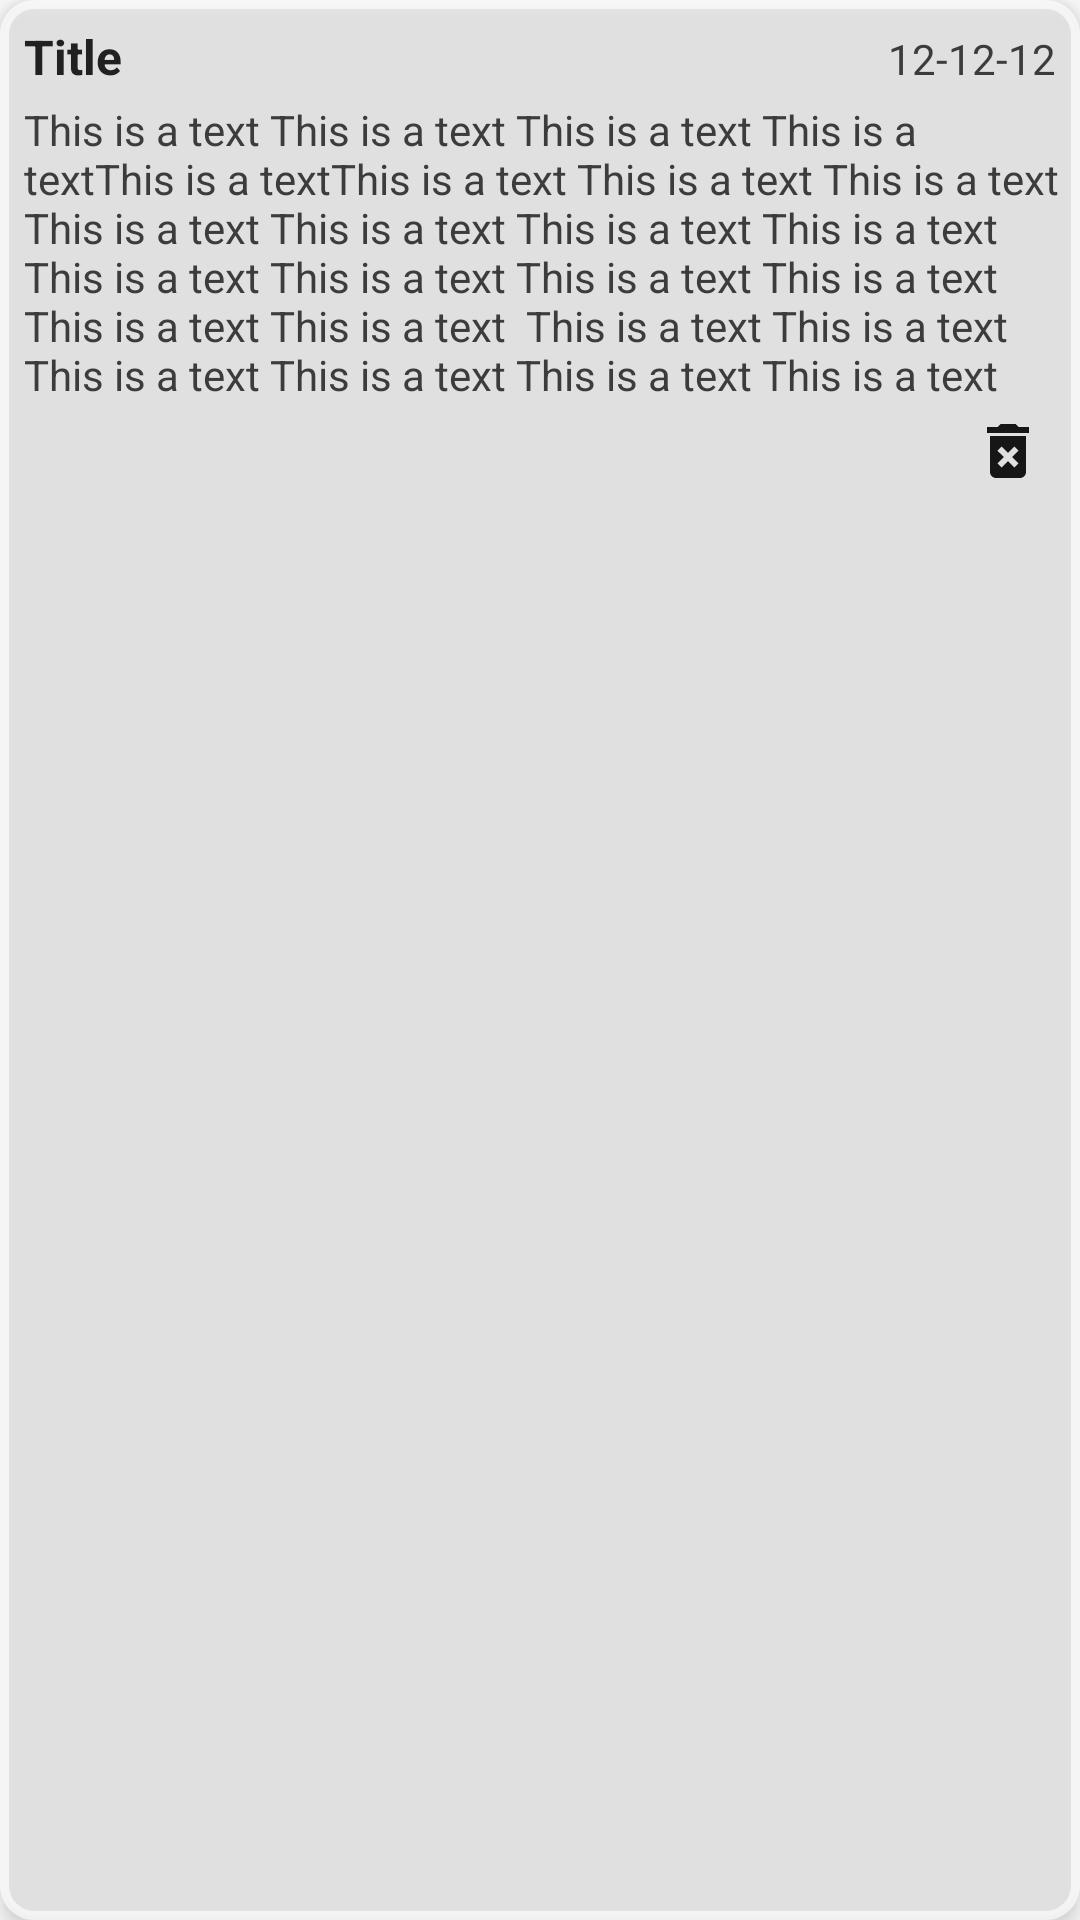

Named icons in this screenshot (1080*1920) and their centers, [x,y]:
Delete: [1008,451]
